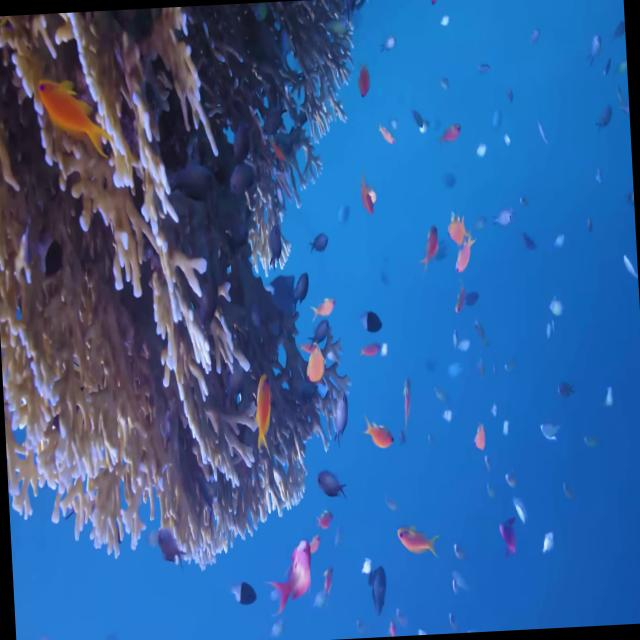fish: (26, 66, 114, 170), (268, 524, 320, 619), (240, 356, 286, 456), (392, 512, 449, 566), (322, 383, 358, 454), (148, 518, 195, 570), (294, 336, 332, 398), (428, 111, 472, 163), (358, 560, 394, 622), (228, 568, 264, 626), (358, 406, 396, 457), (487, 511, 524, 562), (352, 50, 380, 111), (356, 324, 392, 370), (317, 468, 349, 517), (308, 288, 336, 335), (442, 200, 466, 253), (451, 240, 484, 278), (399, 373, 419, 434), (305, 218, 334, 260), (419, 220, 442, 270), (359, 178, 382, 226)
